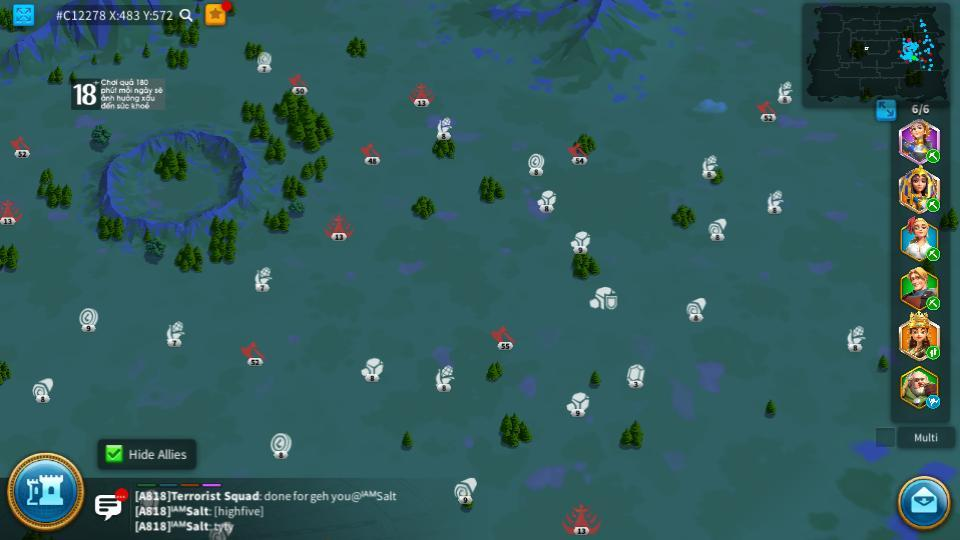gem-z-out: (624, 364, 646, 388)
march_idle: (925, 396, 942, 408)
march_marching: (925, 197, 941, 212), (925, 150, 942, 162), (925, 297, 942, 308), (926, 347, 941, 359)
